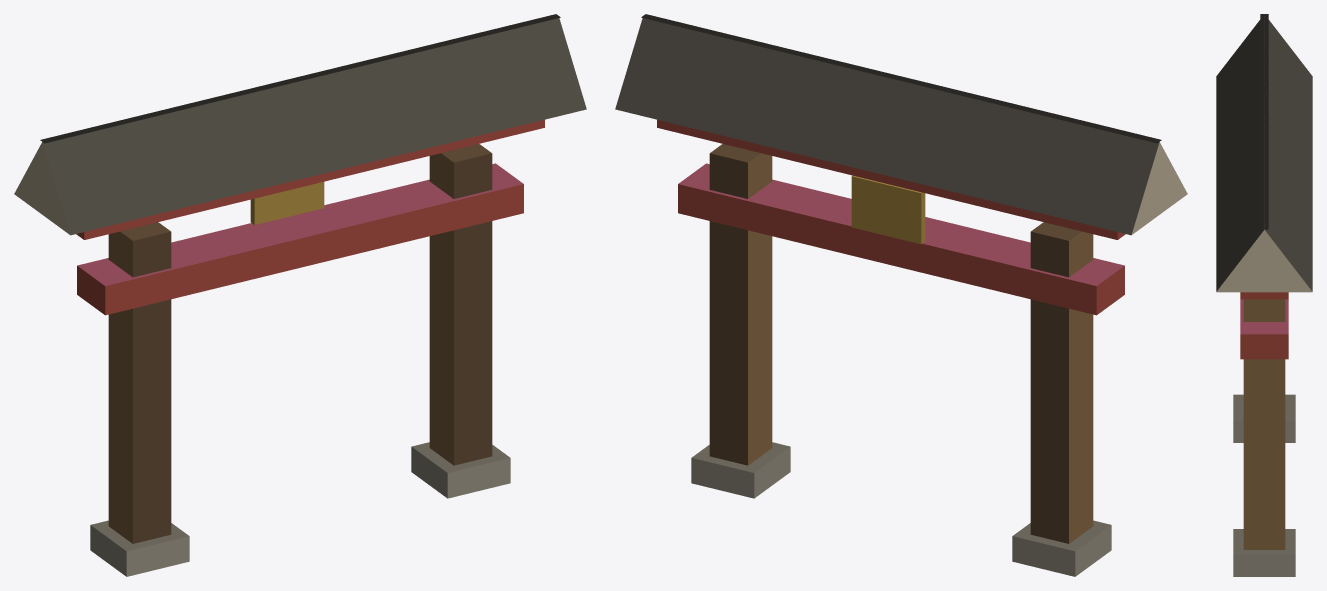
File: bld_gate.glb
3 views of the same model, side by side, from view 1: azimuth 30°, elevation 25°; view 2: azimuth 150°, elevation 25°; view 3: azimuth 270°, elevation 25° (orthographic). The views are drawn at different scales.
Parts seen in each view (by area): view 1: bld_gate; view 2: bld_gate; view 3: bld_gate.
Part boxes in pixels (bbox=[...]): bld_gate: bbox=[14, 14, 586, 576]; bld_gate: bbox=[615, 14, 1187, 576]; bld_gate: bbox=[1216, 14, 1312, 576].
Bounding box in the file's own units: 1.48 × 1.2 × 0.28.
Materials: 1 (1 with a texture image).
